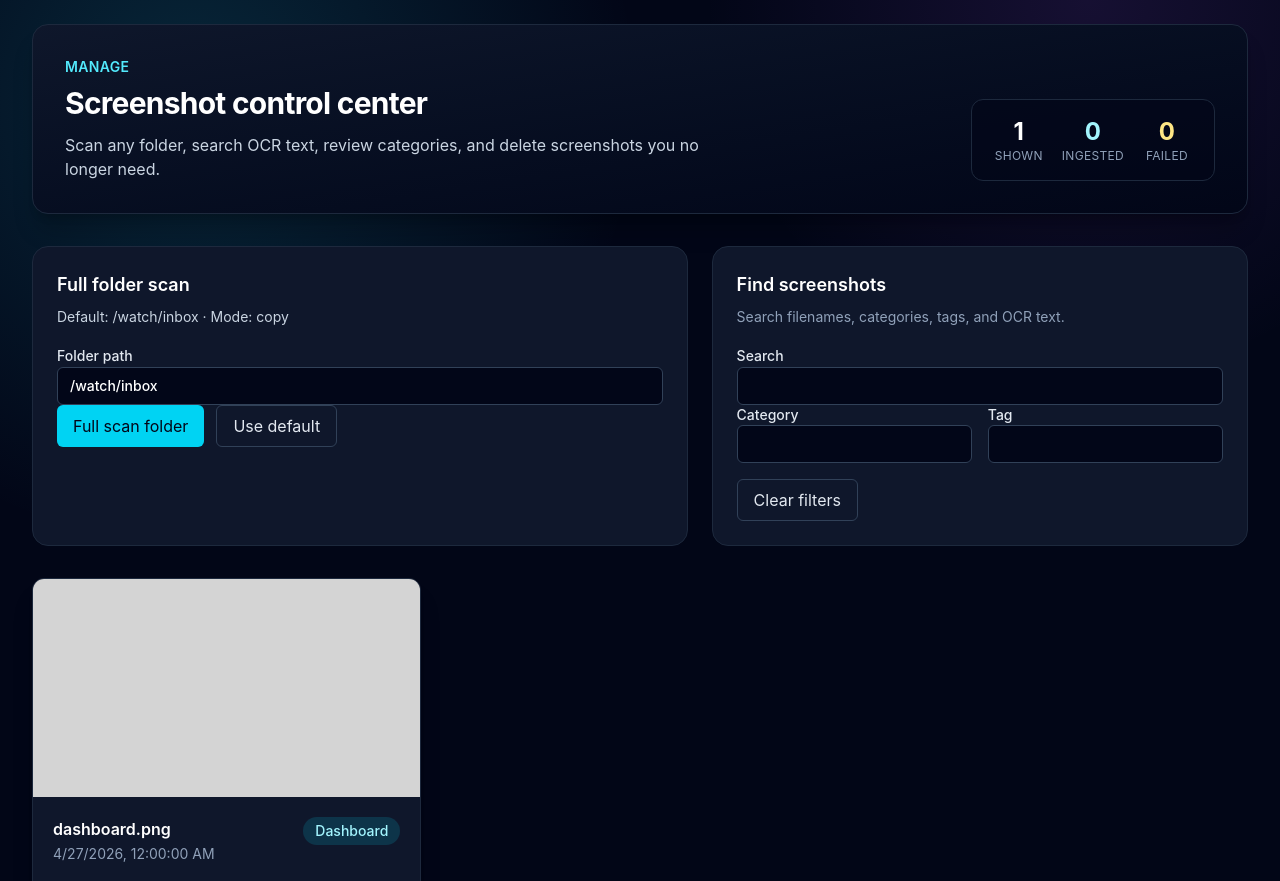
Test: LibraryPage › scans watcher folder and shows summary
Expected: the heading "dashboard.png" is shown, [53,819,171,839]
Click the button "Full scan folder" at (131, 426), box [57,405,204,447]
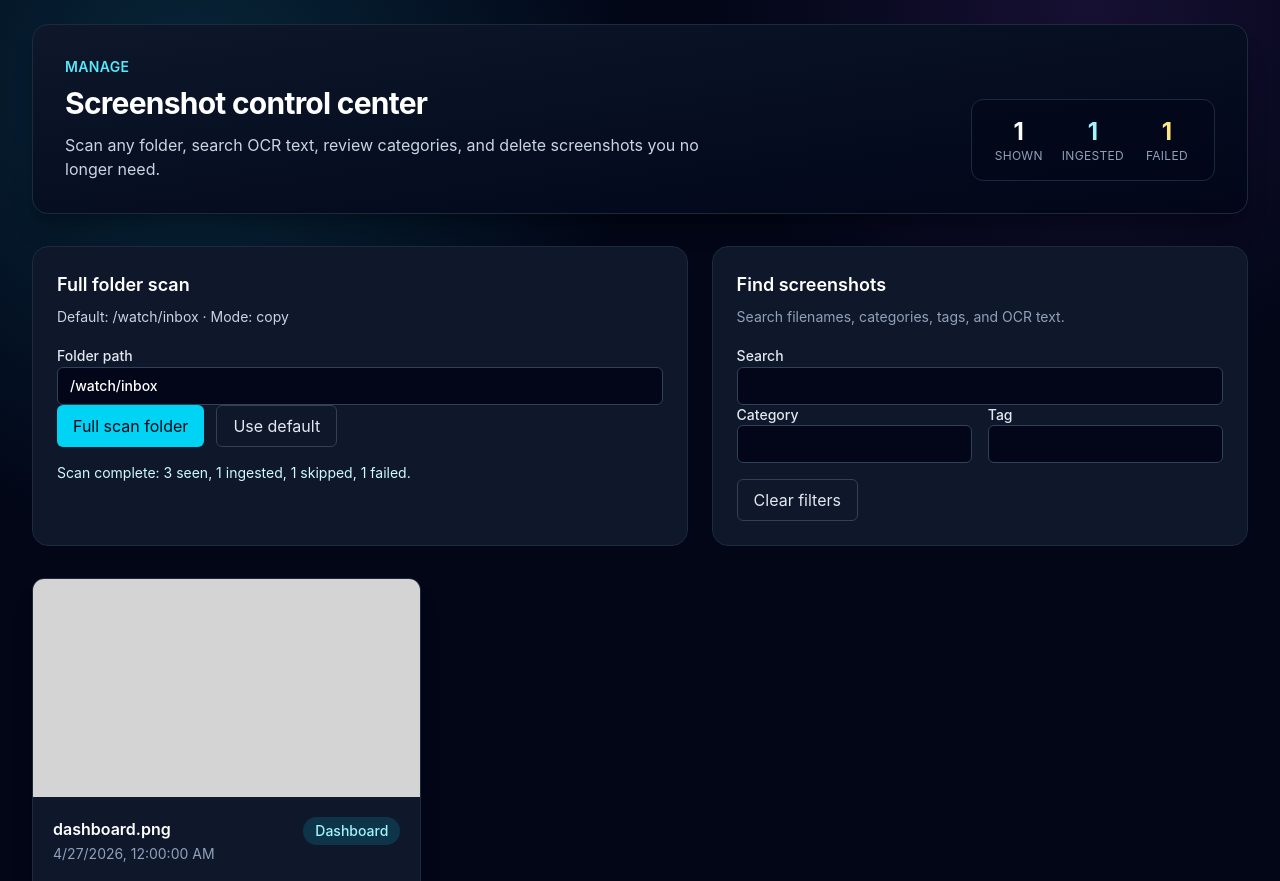
Expected: the text "Scan complete: 3 seen, 1 ingested, 1 skipped, 1 failed." is shown, [57,464,411,481]
